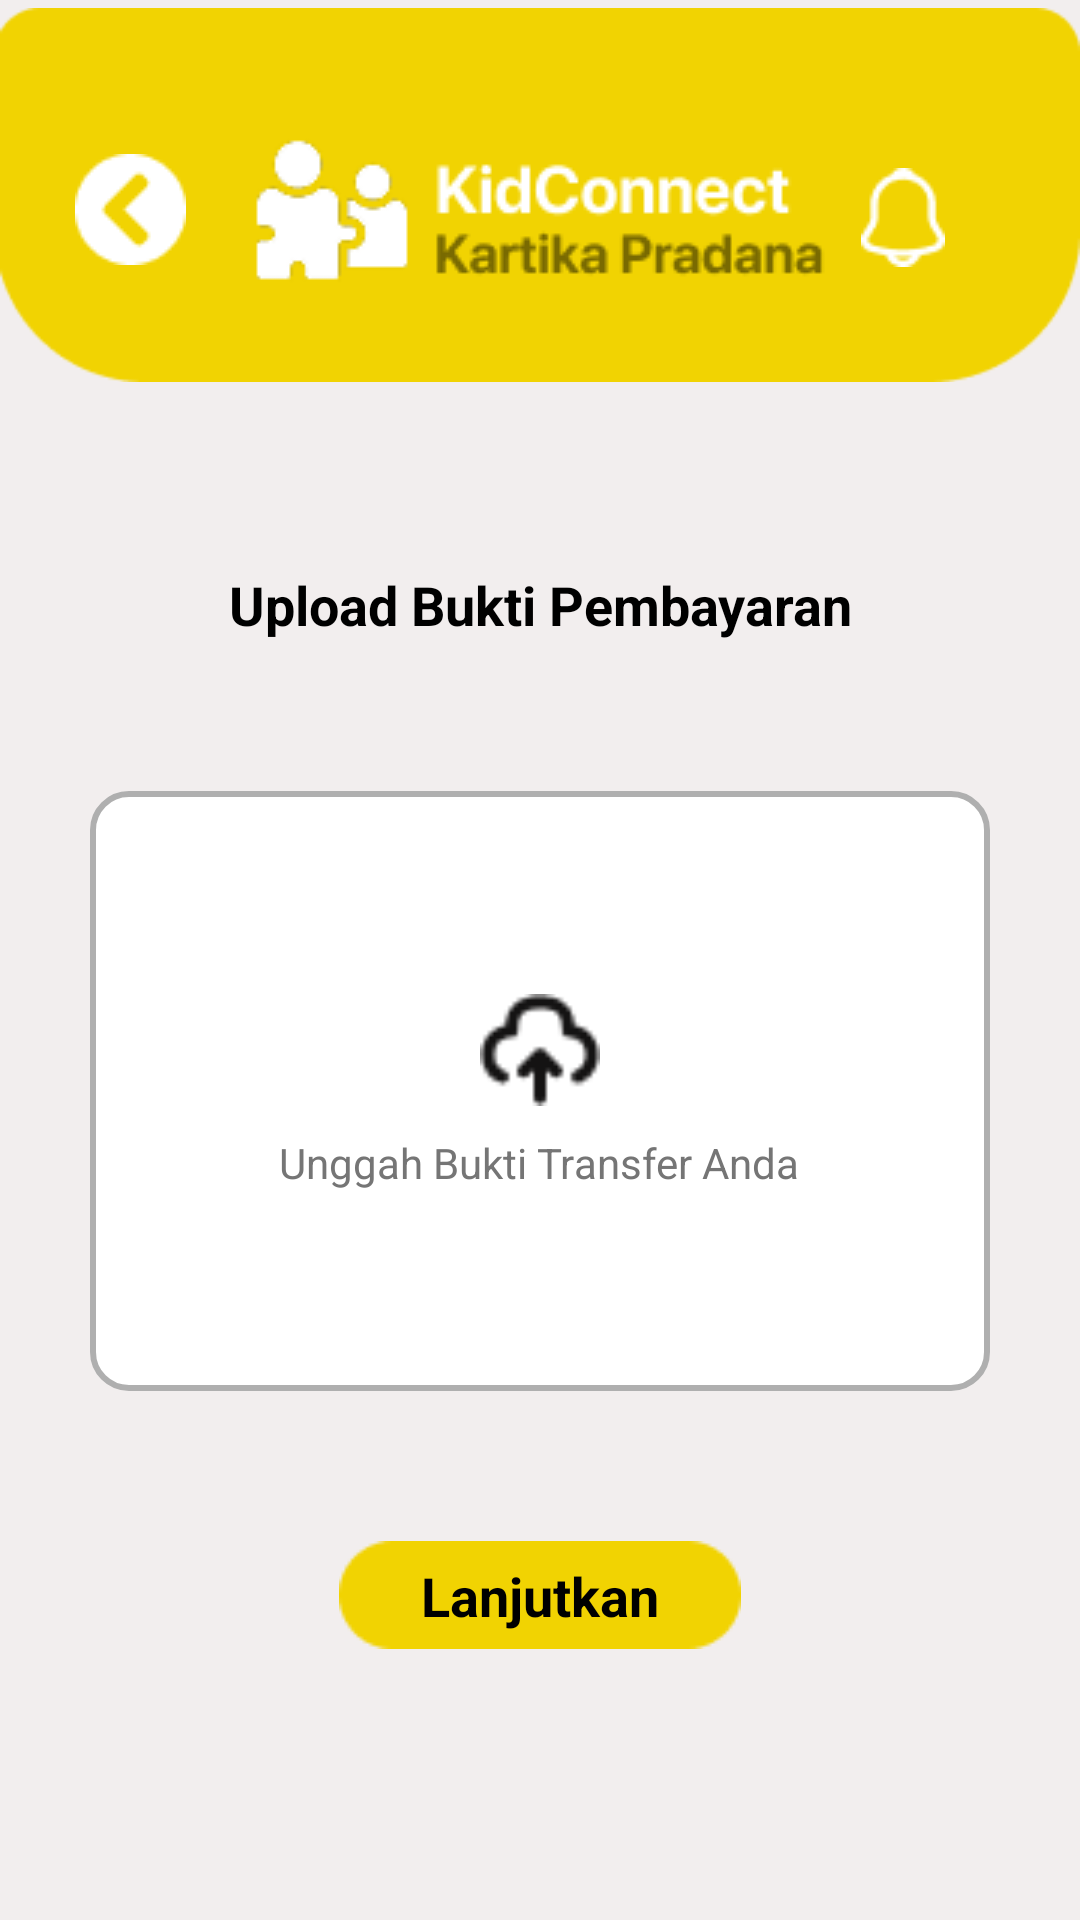

Where icons sit on this 1080*1920 app screen, as [x1,y1,x2,y2]:
back: [75,154,186,265]
notif: [861,168,945,267]
upload: [480,994,600,1106]
